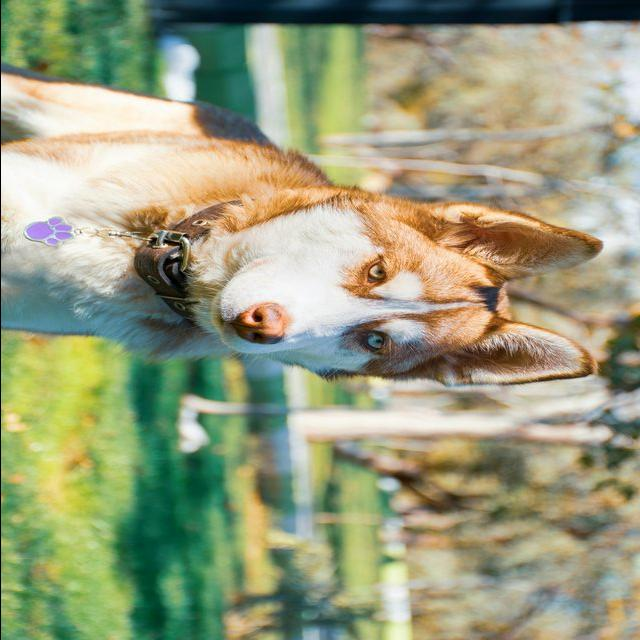husky: (2, 63, 605, 388)
